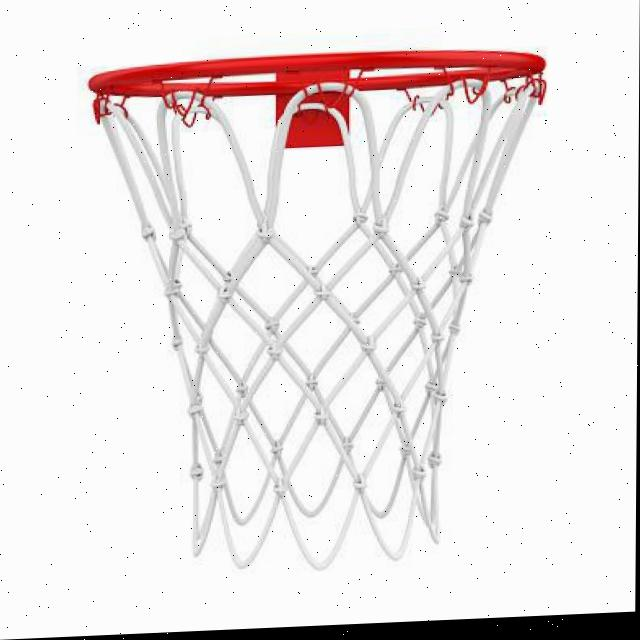hoop: (85, 42, 547, 579)
